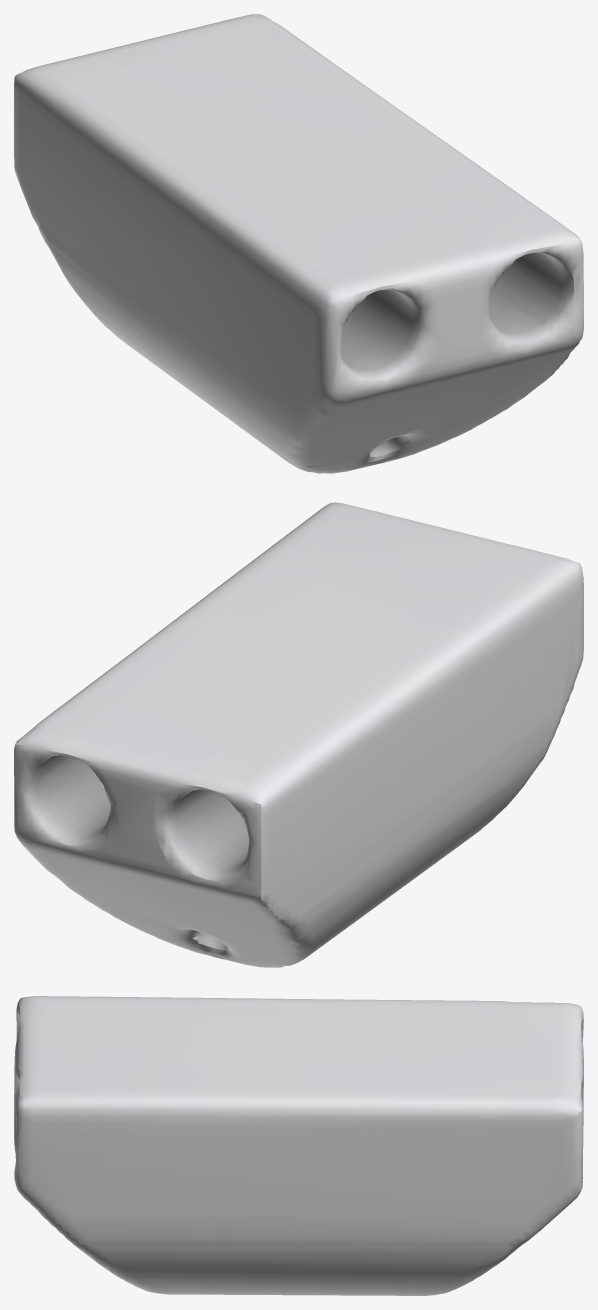
Rendered from right_finger3_lower.obj.
3 renders of one model, top to bottom at view 1: azimuth 30°, elevation 25°; view 2: azimuth 150°, elevation 25°; view 3: azimuth 270°, elevation 25°, orthographic. The views are drawn at different scales.
Visible parts, largest first — view 1: right_finger3_lower; view 2: right_finger3_lower; view 3: right_finger3_lower.
Boxes of the visible parts, x1,y1,x2,y2 form: right_finger3_lower: (14,14,583,473); right_finger3_lower: (14,502,583,967); right_finger3_lower: (14,996,583,1295).
Bounding box in the file's own units: 0.0117 × 0.0114 × 0.0251.
1 material, 1 textured.
